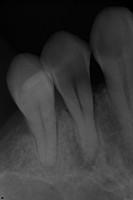Furcation Involvement: (72, 134, 96, 172)
